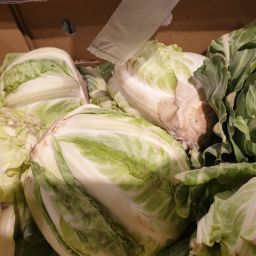Cauliflower: (1, 48, 256, 256), (16, 64, 240, 236)
